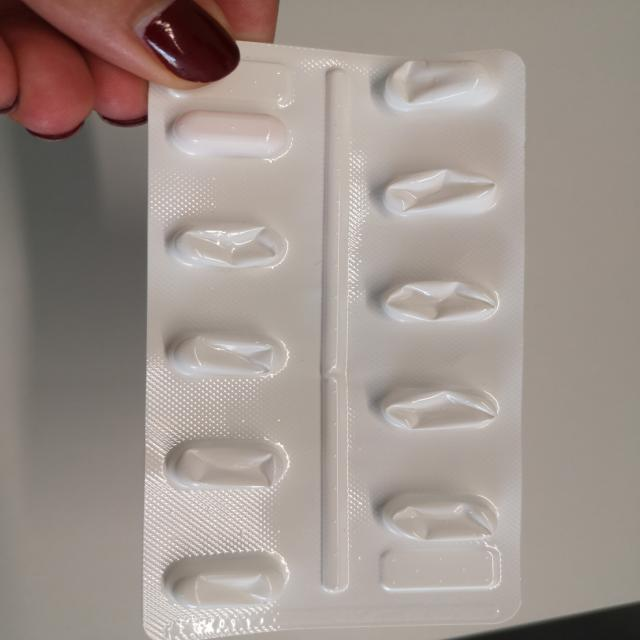Empty: (159, 432, 294, 492), (370, 163, 504, 223), (165, 217, 296, 276), (374, 488, 507, 546), (374, 272, 504, 328), (162, 328, 294, 383), (374, 382, 505, 437), (373, 56, 495, 115), (161, 558, 283, 614)
Pill: (161, 103, 295, 163)
